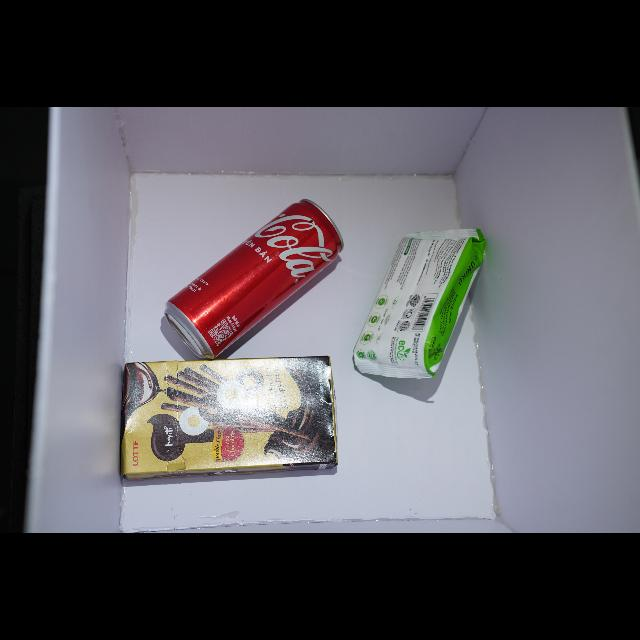banh_toppo_socola: (121, 357, 337, 479)
coca_cola: (165, 199, 344, 359)
khan_giay: (353, 229, 484, 379)
